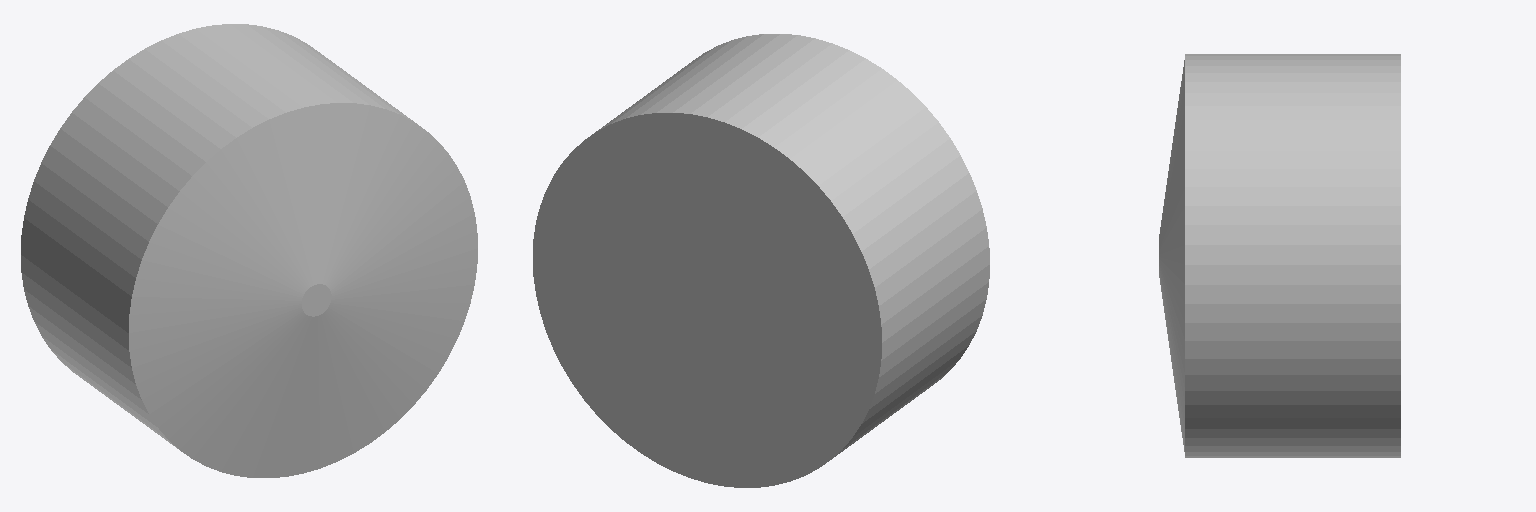
The model's file is Candle4aux.obj.
3 views of the same model, side by side, from view 1: azimuth 30°, elevation 25°; view 2: azimuth 150°, elevation 25°; view 3: azimuth 270°, elevation 25° (orthographic).
Parts seen in each view (by area): view 1: Candle4aux_Cylinder.020; view 2: Candle4aux_Cylinder.020; view 3: Candle4aux_Cylinder.020.
Part boxes in pixels (x1,y1,x2,y2): Candle4aux_Cylinder.020: (21,24,477,477); Candle4aux_Cylinder.020: (533,34,989,487); Candle4aux_Cylinder.020: (1159,54,1400,457).
Bounding box in the file's own units: 0.0943 × 0.0943 × 0.0566.